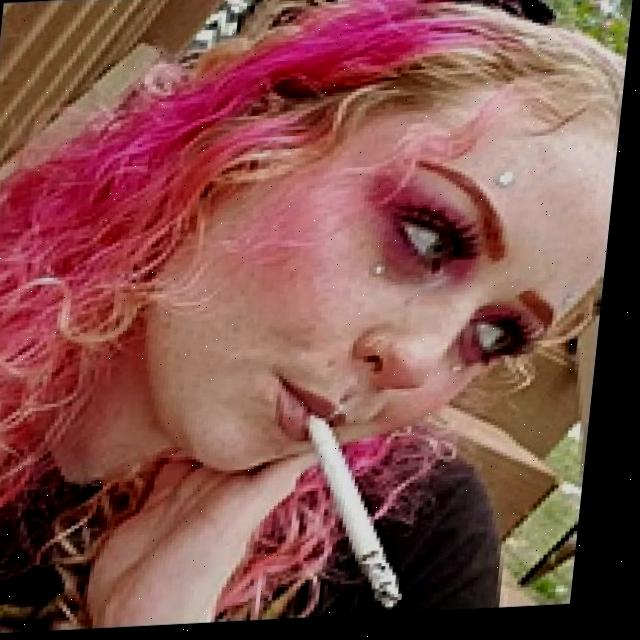cigarette: (300, 414, 429, 617)
